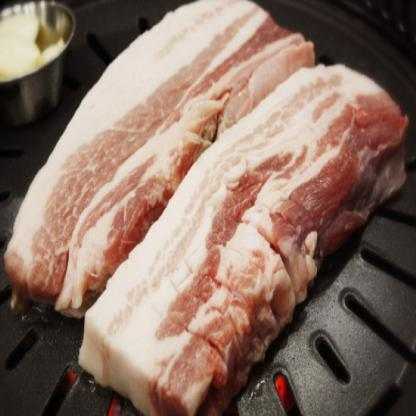pork: (47, 0, 405, 411)
